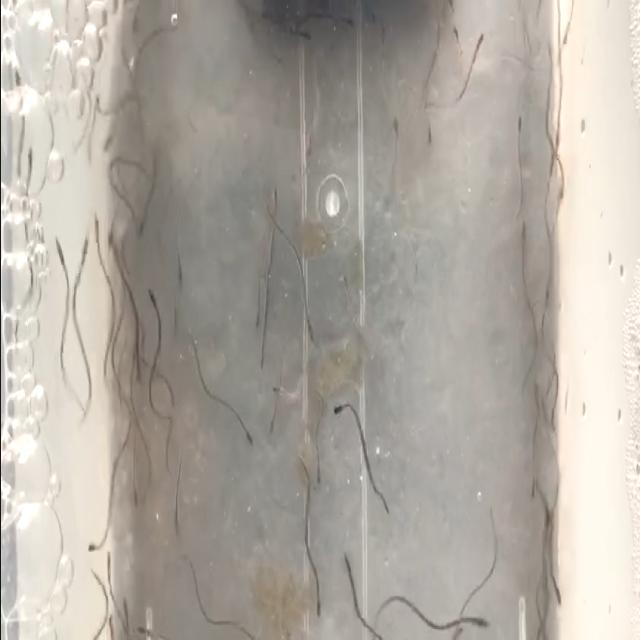active_glass_eel: (286, 20, 314, 56), (142, 283, 162, 333), (8, 68, 28, 118), (460, 607, 490, 640), (70, 220, 88, 274), (538, 498, 558, 546), (524, 452, 538, 518), (130, 359, 149, 404), (302, 299, 318, 352), (550, 570, 566, 622), (468, 30, 486, 76), (49, 229, 72, 265), (24, 141, 39, 196), (516, 212, 533, 260), (127, 470, 142, 523), (170, 248, 187, 294), (282, 159, 306, 191), (166, 299, 182, 346), (448, 15, 464, 60), (266, 375, 288, 407), (90, 210, 106, 254), (86, 526, 108, 557), (338, 540, 352, 588), (136, 194, 148, 249), (240, 420, 258, 456), (100, 548, 116, 588), (374, 13, 389, 55), (119, 592, 132, 640), (552, 178, 566, 222), (309, 578, 323, 622), (314, 445, 328, 489), (100, 116, 114, 160), (104, 605, 121, 640), (512, 106, 526, 148), (105, 213, 118, 258), (386, 108, 402, 142), (332, 393, 348, 427), (423, 104, 435, 148), (341, 5, 358, 34), (540, 390, 552, 430), (264, 408, 276, 448), (250, 299, 264, 333), (134, 614, 152, 640), (451, 614, 462, 640)
